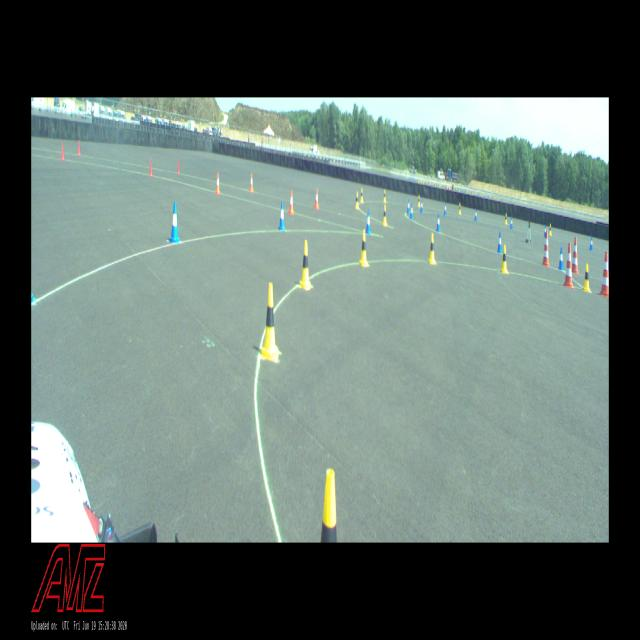blue_cone: (168, 202, 180, 243), (278, 201, 286, 231), (558, 248, 563, 269), (366, 210, 370, 235), (497, 232, 502, 252), (436, 213, 440, 232), (406, 198, 409, 214), (510, 216, 513, 229), (474, 210, 477, 222), (410, 203, 412, 220), (444, 202, 446, 216), (420, 200, 422, 213), (544, 224, 546, 237), (590, 238, 592, 250)
large_orange_cone: (564, 243, 573, 287), (600, 251, 608, 298), (542, 232, 550, 266), (572, 238, 579, 274)
orange_cone: (289, 190, 294, 213), (216, 172, 220, 194), (315, 189, 319, 209), (250, 172, 253, 192)
unknown_cone: (149, 158, 153, 176), (60, 143, 64, 160), (78, 140, 81, 155), (177, 159, 180, 173)
yellow_cone: (261, 282, 278, 361), (320, 469, 337, 542), (300, 240, 312, 290), (359, 230, 369, 266), (428, 233, 436, 264), (583, 264, 590, 292), (501, 245, 508, 273), (382, 204, 387, 226), (355, 192, 359, 209), (504, 213, 508, 225), (360, 188, 363, 202), (549, 223, 552, 235), (383, 190, 386, 202), (417, 195, 420, 207), (459, 203, 461, 214)
